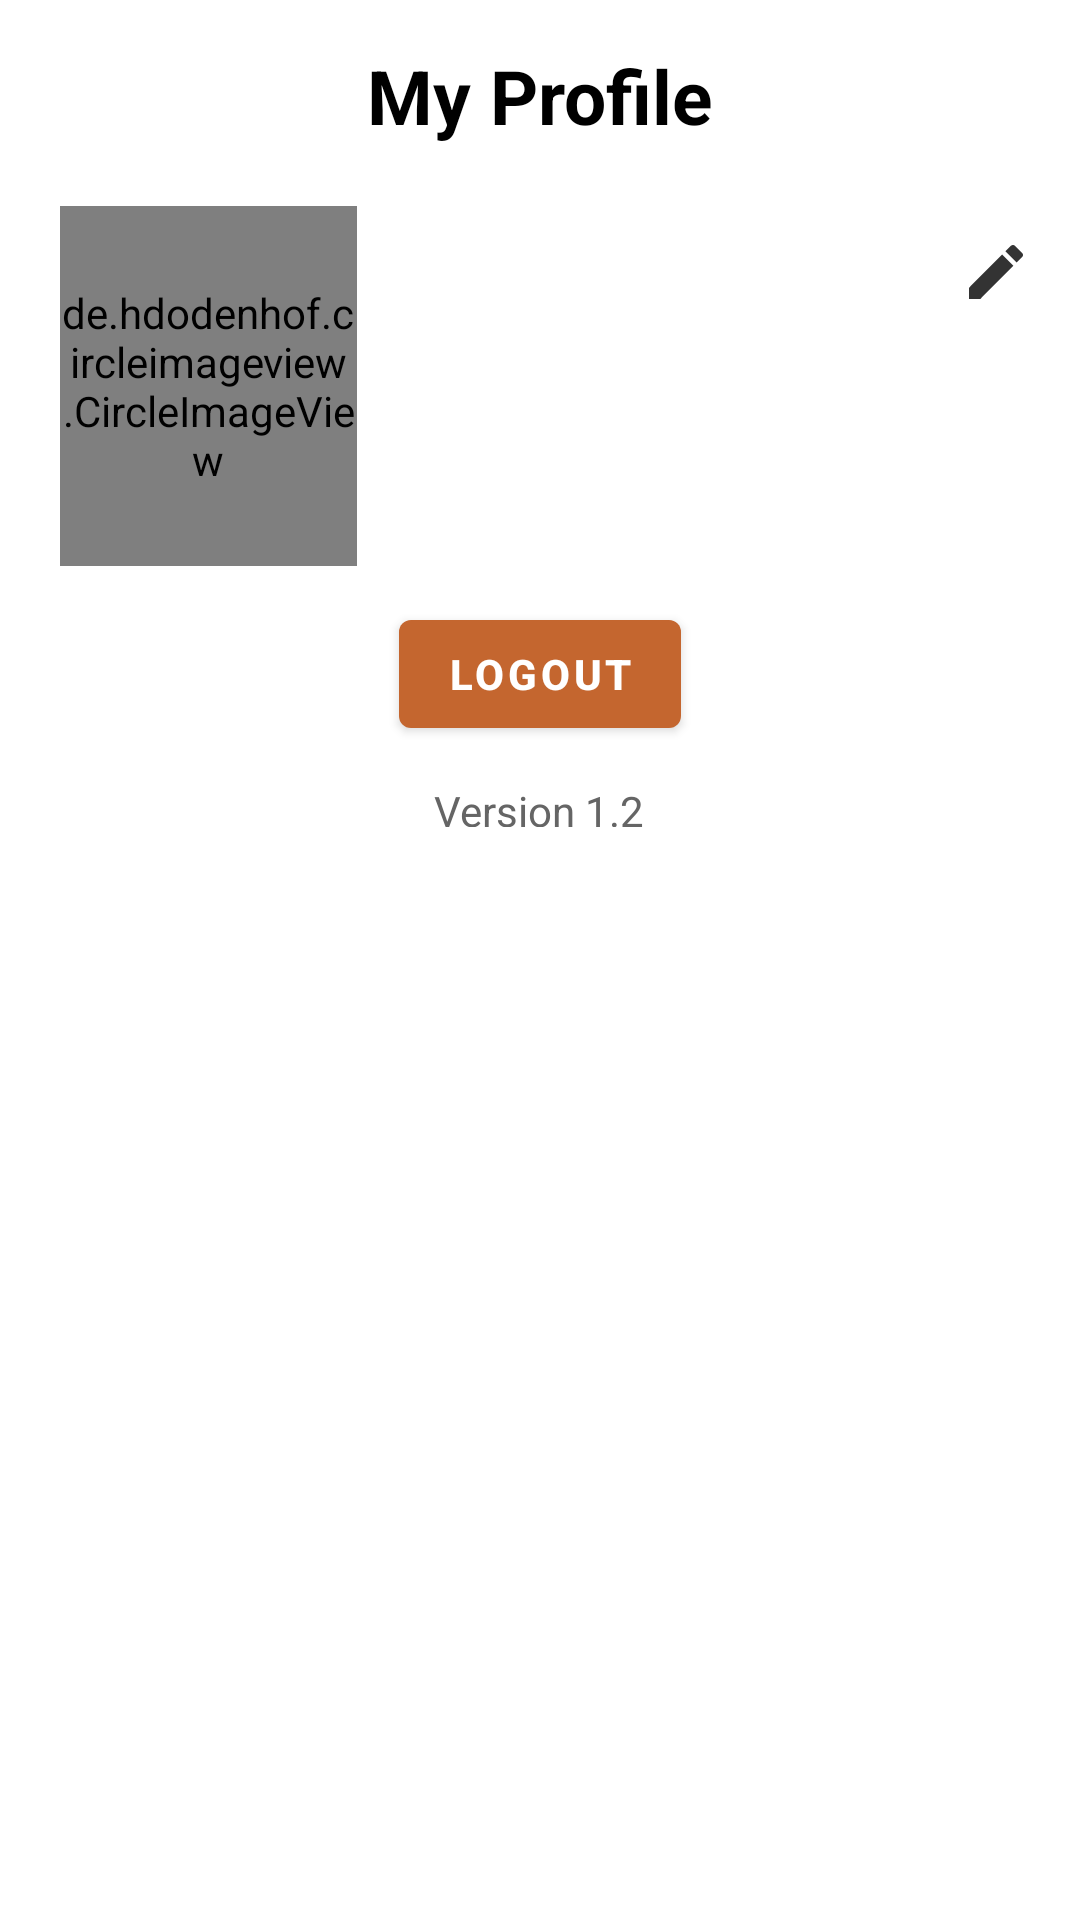

Locate icon controls on the screen. Image size 1080×1920, boxes as {"x1": x1, "y1": y1, "x2": x2, "y2": y2}.
edit: {"x1": 969, "y1": 245, "x2": 1023, "y2": 299}
